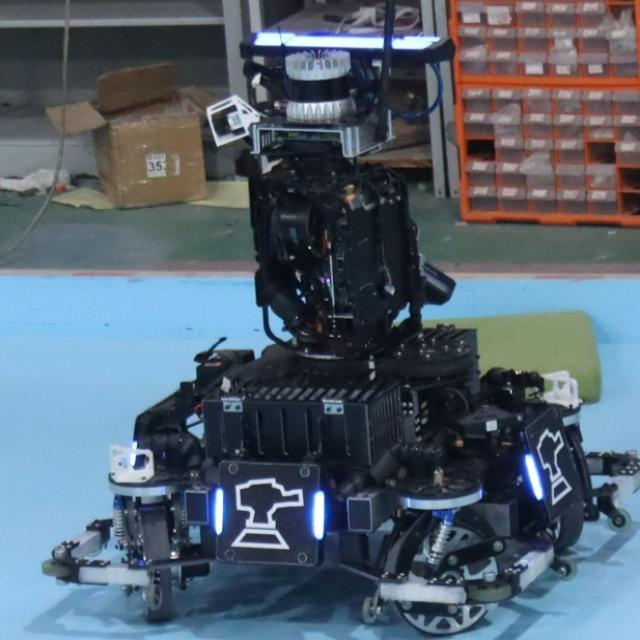Bs: (212, 470, 328, 558), (523, 424, 577, 510)
